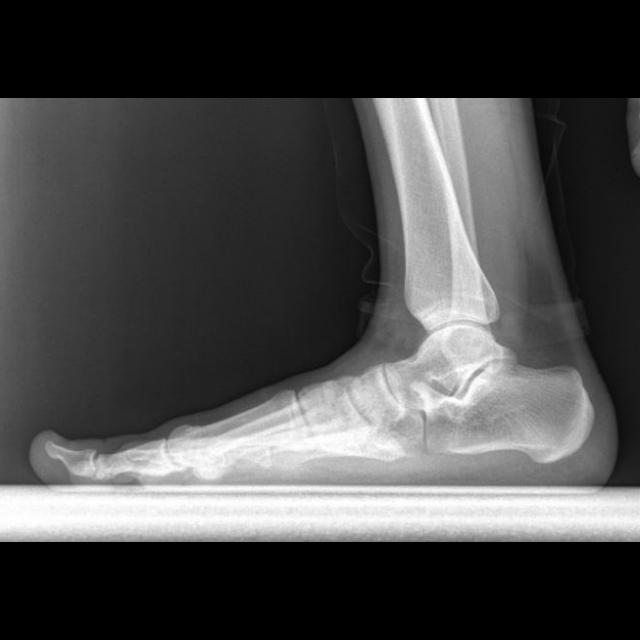a: (421, 362, 596, 464)
b: (351, 363, 402, 435)
c: (170, 390, 323, 464)
